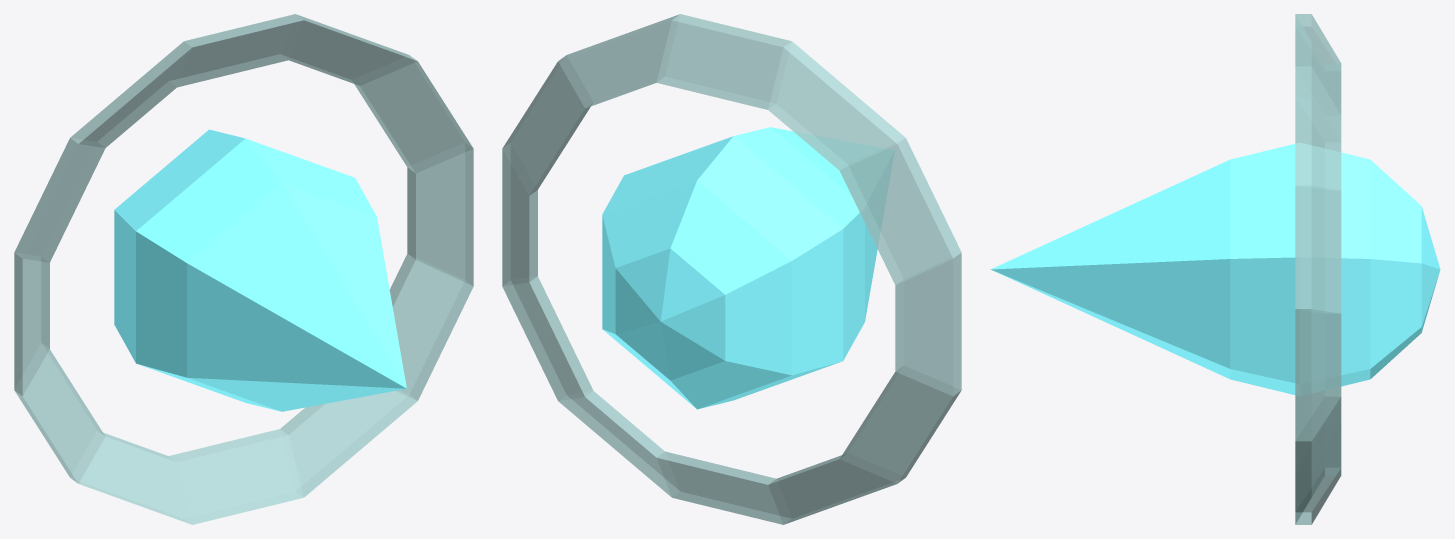
File: bullet.fbx
3 views of the same model, side by side, from view 1: azimuth 30°, elevation 25°; view 2: azimuth 150°, elevation 25°; view 3: azimuth 270°, elevation 25° (orthographic). The views are drawn at different scales.
Parts seen in each view (by area): view 1: 球体; view 2: 球体; view 3: 球体.
Boxes of the visible parts, left/top/right/bottom form: 球体: left=14, top=14, right=473, bottom=524; 球体: left=502, top=14, right=961, bottom=524; 球体: left=990, top=14, right=1440, bottom=524.
Size of the model in its own units: 30.51 by 30.88 by 27.45.
